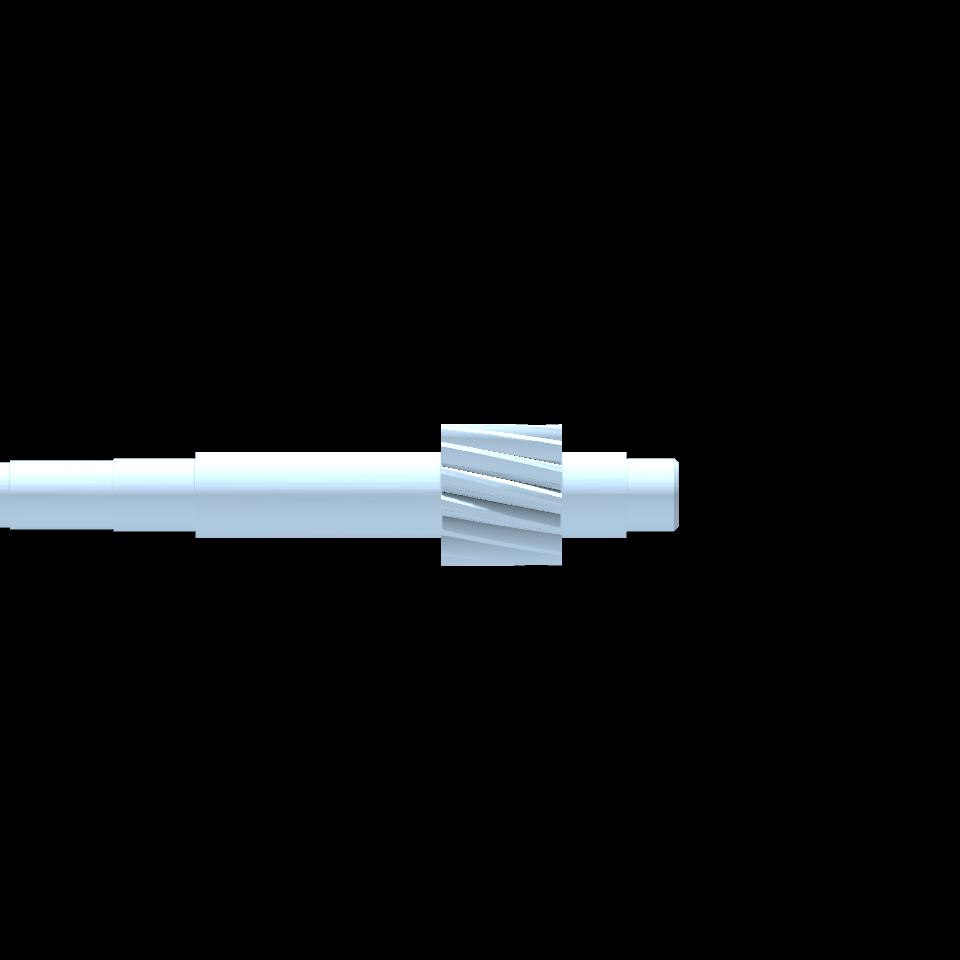Helical: (441, 423, 563, 566)
